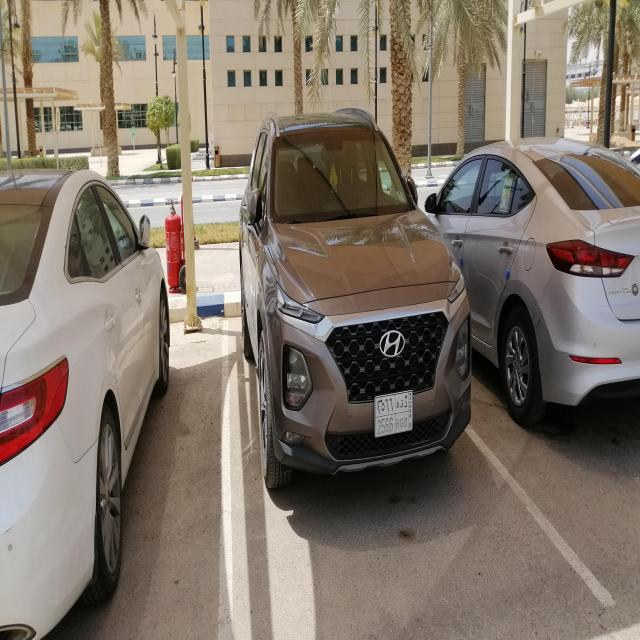license_plate: (374, 388, 413, 438)
